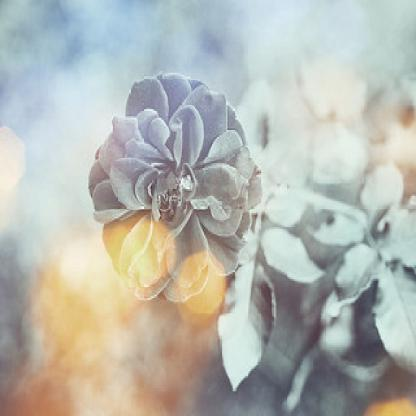Rose-Mawar: (83, 60, 266, 296)
